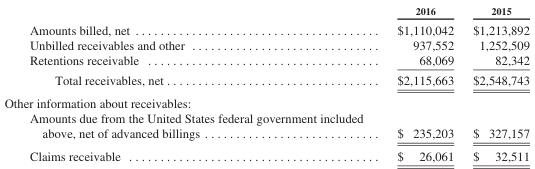table: (3, 4, 528, 162)
table column: (3, 4, 379, 162), (379, 4, 462, 162), (462, 4, 528, 162)
table column header: (3, 4, 528, 19)
table projected row header: (3, 91, 528, 110)
table row: (3, 110, 528, 144), (3, 69, 528, 91), (3, 91, 528, 110), (3, 19, 528, 37), (3, 144, 528, 162), (3, 52, 528, 69), (3, 4, 528, 19), (3, 37, 528, 52)
